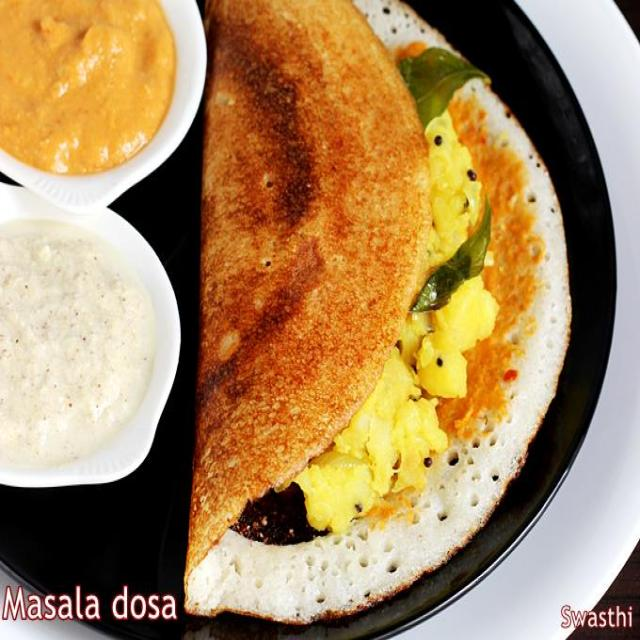chutney: (0, 203, 161, 476), (0, 0, 189, 182)
masala_dosa: (211, 5, 576, 605)
